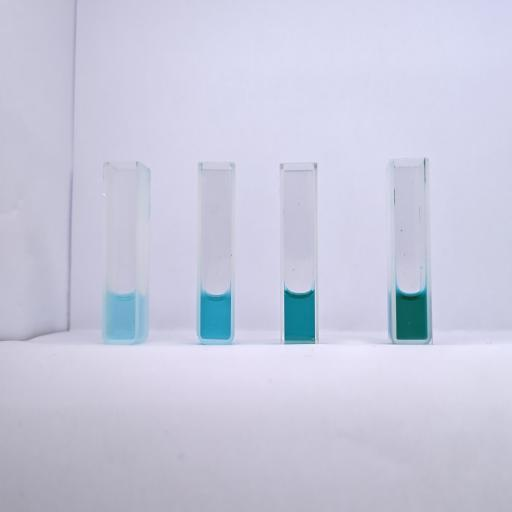cuvette: (387, 154, 435, 346), (101, 159, 143, 345), (278, 161, 320, 344), (196, 159, 236, 345)
liquid: (284, 290, 315, 340), (396, 290, 427, 340), (201, 292, 231, 339), (107, 290, 135, 339)
